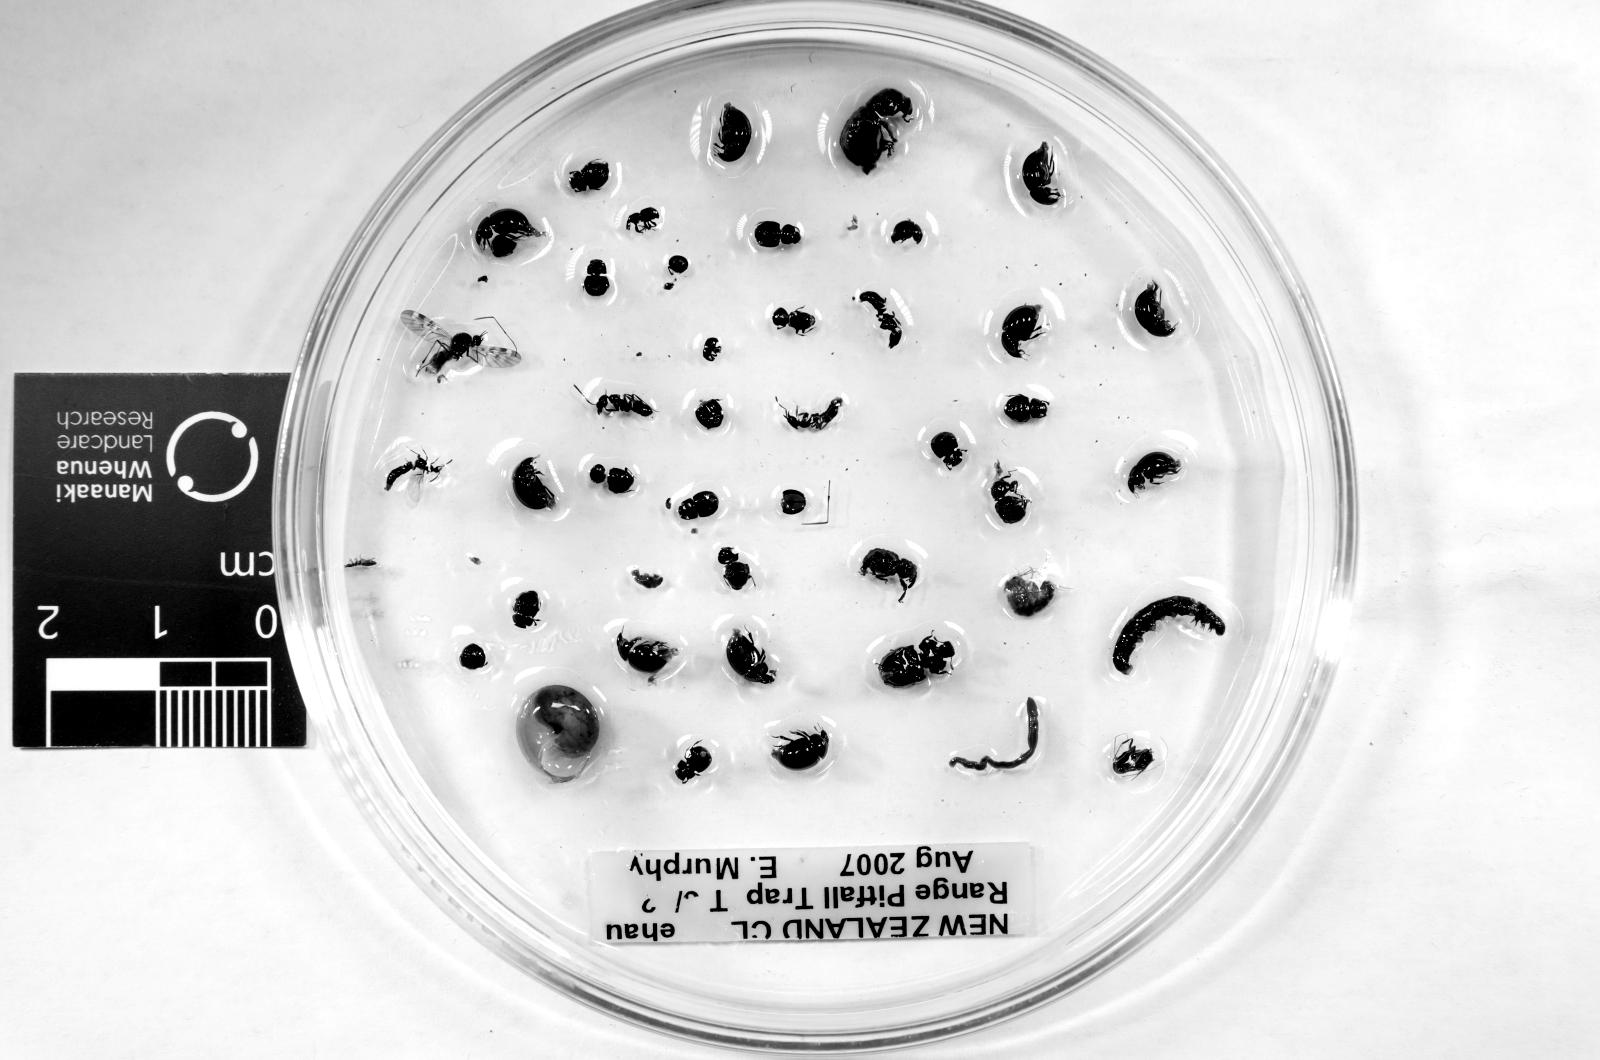amphipoda: (1004, 573, 1056, 616)
annelida: (948, 698, 1038, 773)
coleoptera: (840, 89, 914, 174), (877, 634, 956, 689), (474, 208, 545, 257), (860, 548, 918, 602), (615, 632, 679, 679), (1021, 142, 1064, 206), (726, 629, 776, 684), (710, 103, 753, 163), (1133, 279, 1177, 337), (771, 726, 829, 770), (990, 461, 1030, 524), (512, 457, 557, 510), (1127, 451, 1181, 495), (1000, 305, 1044, 357), (673, 741, 713, 784), (569, 160, 610, 193), (1004, 394, 1049, 424), (753, 221, 802, 248), (675, 491, 719, 521), (929, 432, 964, 468), (771, 308, 816, 335), (583, 259, 610, 297), (512, 590, 539, 628), (626, 207, 661, 233), (890, 219, 925, 244), (702, 337, 721, 362)
coleoptera_larva: (1112, 595, 1226, 676)
collembola: (344, 558, 378, 568)
diptera: (401, 310, 522, 382)
formicidae: (384, 453, 445, 503), (859, 291, 901, 348), (782, 396, 844, 431), (592, 394, 655, 416)
gastropoda: (518, 685, 601, 782)
